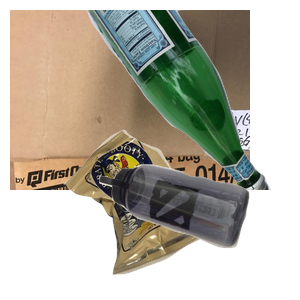cardboard: (10, 10, 250, 190)
glass: (75, 10, 300, 190)
plastic: (97, 162, 300, 300)
trash: (61, 127, 260, 300)
